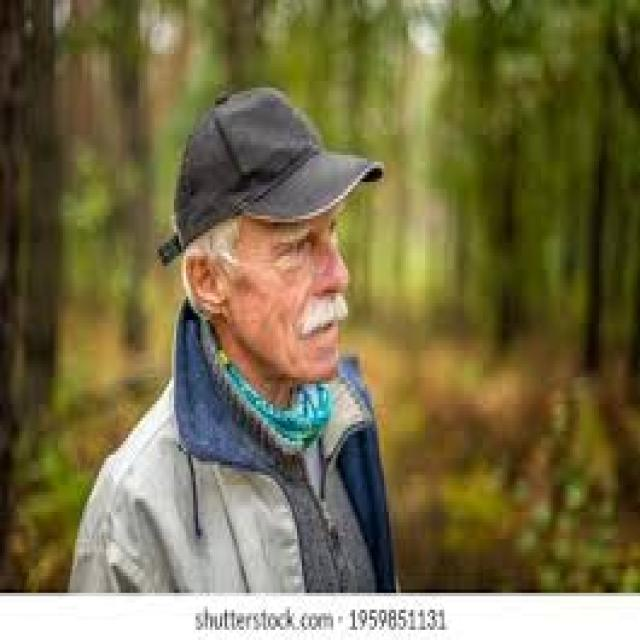3_gorra: (172, 87, 386, 251)
